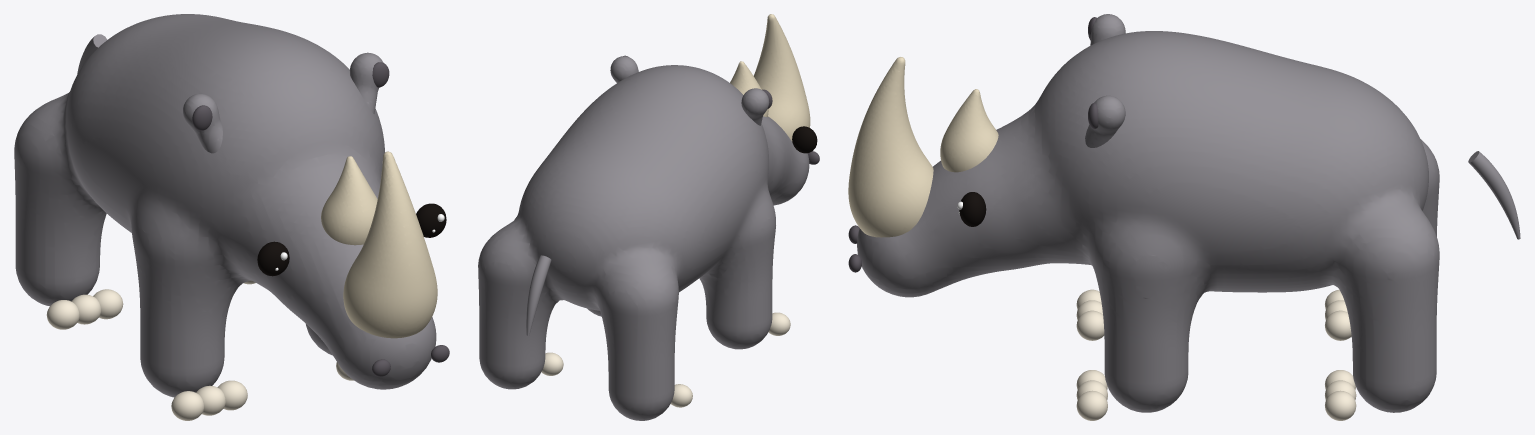
The model's file is rinoceronte.fbx.
3 renders of one model, left to right at view 1: azimuth 30°, elevation 25°; view 2: azimuth 150°, elevation 25°; view 3: azimuth 270°, elevation 25°, orthographic. The views are drawn at different scales.
Parts seen in each view (by area): view 1: rino_corpo, chifre36, chifre37, orelha38, orelha39, Sphere.016, Sphere.003, Sphere, Sphere.019, Sphere.002, Sphere.005, Sphere.004 (+2 smaller); view 2: rino_corpo, chifre36, mecha40, orelha38, chifre37, Sphere.016, orelha39, Sphere.003, Sphere, Sphere.009; view 3: rino_corpo, chifre36, chifre37, orelha39, mecha40, Sphere.008, Sphere.011, orelha38, Sphere.019, Sphere.002, Sphere.005.
Part boxes in pixels (x1,y1,x2,y2): rino_corpo: (14,14,436,397); chifre36: (343,151,437,338); chifre37: (321,156,377,245); orelha38: (183,93,222,153); orelha39: (349,52,383,113); Sphere.016: (257,241,289,276); Sphere.003: (46,300,79,329); Sphere: (171,391,203,420); Sphere.019: (416,203,446,237); Sphere.002: (217,380,247,410); Sphere.005: (93,289,123,319); Sphere.004: (71,294,100,324); rino_corpo: (478,65,809,420); chifre36: (754,14,810,141); mecha40: (526,255,551,335); orelha38: (741,88,769,125); chifre37: (730,61,768,117); Sphere.016: (792,126,817,153); orelha39: (610,56,638,82); Sphere.003: (670,384,692,407); Sphere: (768,312,790,335); Sphere.009: (541,352,563,375); rino_corpo: (857,31,1439,412); chifre36: (848,57,933,237); chifre37: (940,89,998,172); orelha39: (1085,95,1125,147); mecha40: (1468,151,1520,239); Sphere.008: (1076,390,1107,420); Sphere.011: (1325,390,1356,420); orelha38: (1090,14,1125,45); Sphere.019: (959,192,986,226); Sphere.002: (1076,310,1104,340); Sphere.005: (1325,310,1351,340).
Size of the model in its own units: 1.25 by 1.6 by 2.98.
